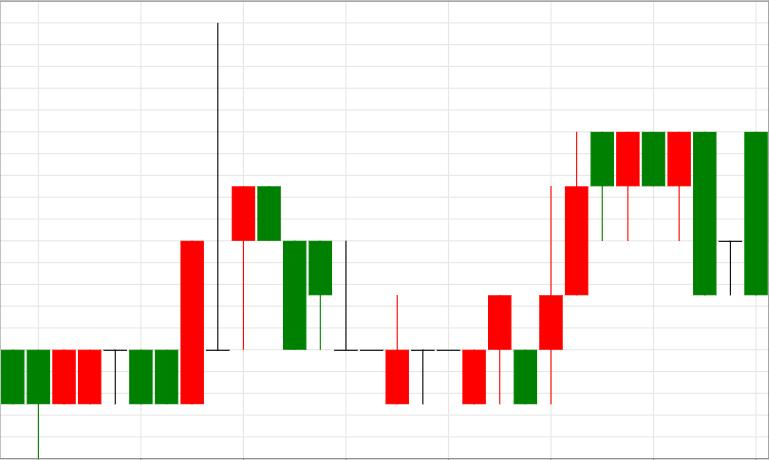bearish_engulfing_fall: (540, 132, 716, 406)
